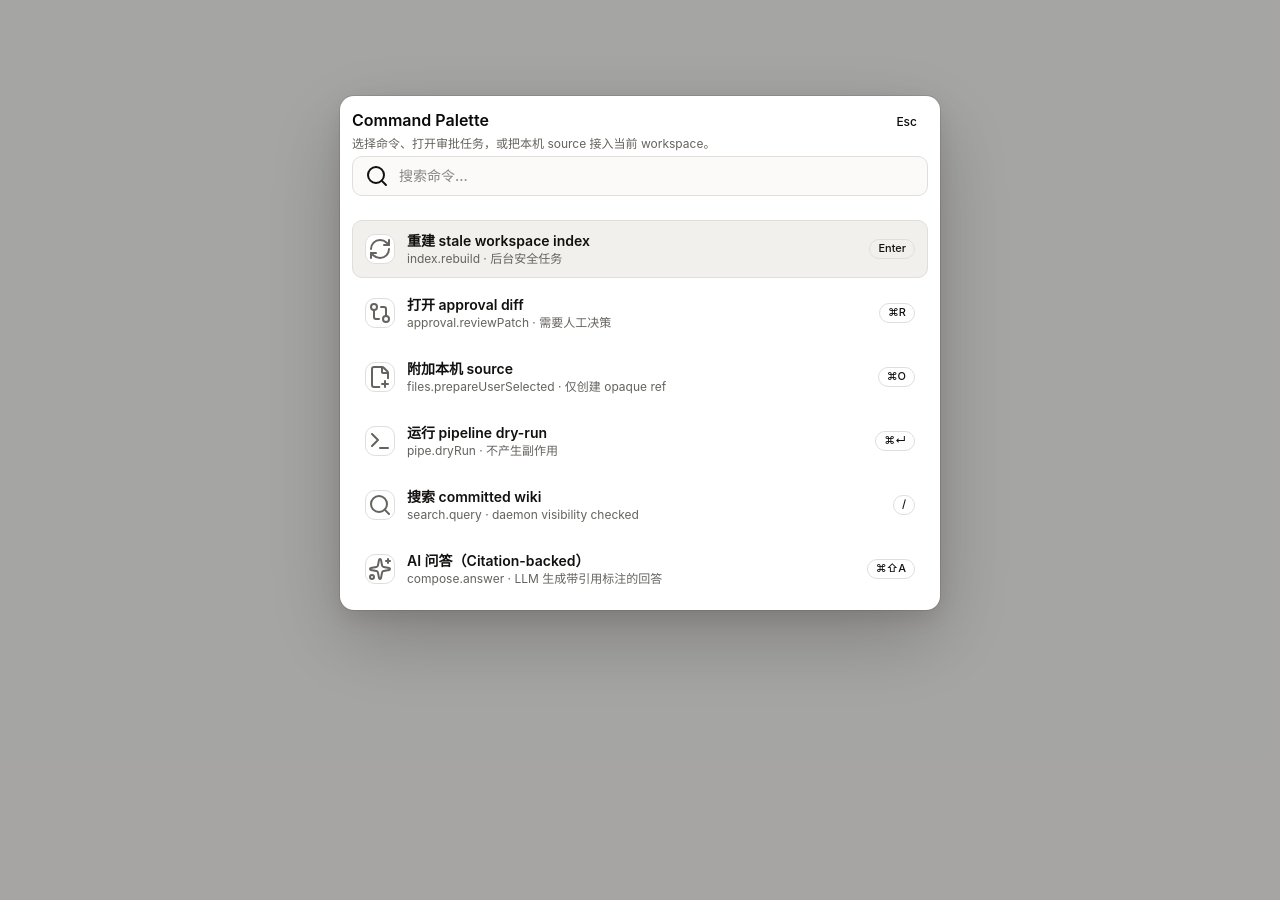
Test: CommandPalette › shows_no_results_when_query_matches_nothing
The width and height of the screenshot is (1280, 900).
Type "xyz-nonexistent" into the field with test id "command-palette-input".
click(657, 176); type("xyz-nonexistent")  # box [399,166,915,186]
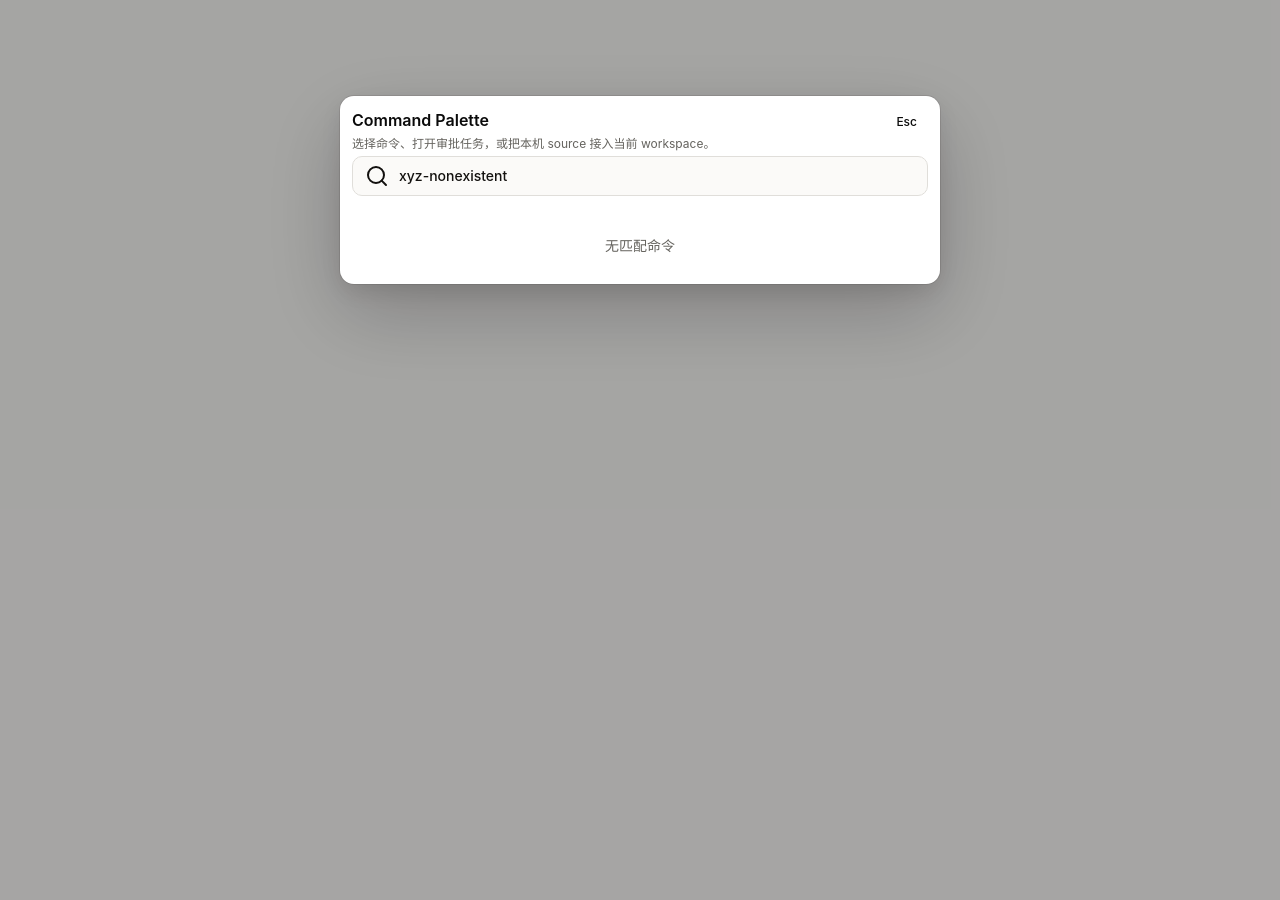
Result: the text "无匹配命令" is shown at [605,237,675,254]
